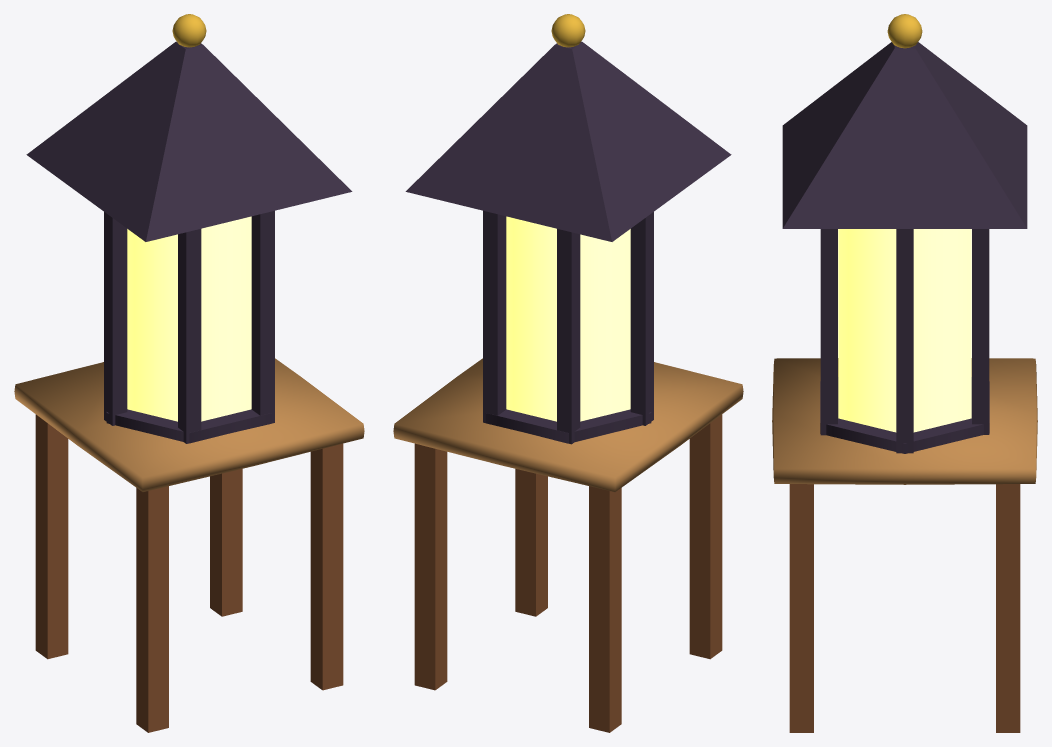
File: lantern_hex.glb
3 renders of one model, left to right at view 1: azimuth 30°, elevation 25°; view 2: azimuth 150°, elevation 25°; view 3: azimuth 270°, elevation 25°, orthographic. The views are drawn at different scales.
Visible parts, largest first — view 1: root; view 2: root; view 3: root.
Boxes of the visible parts, x1=… form: root: x1=14, y1=14, x2=364, y2=732; root: x1=393, y1=14, x2=743, y2=732; root: x1=772, y1=14, x2=1037, y2=732.
Size of the model in its own units: 0.76 by 2.11 by 0.76.
